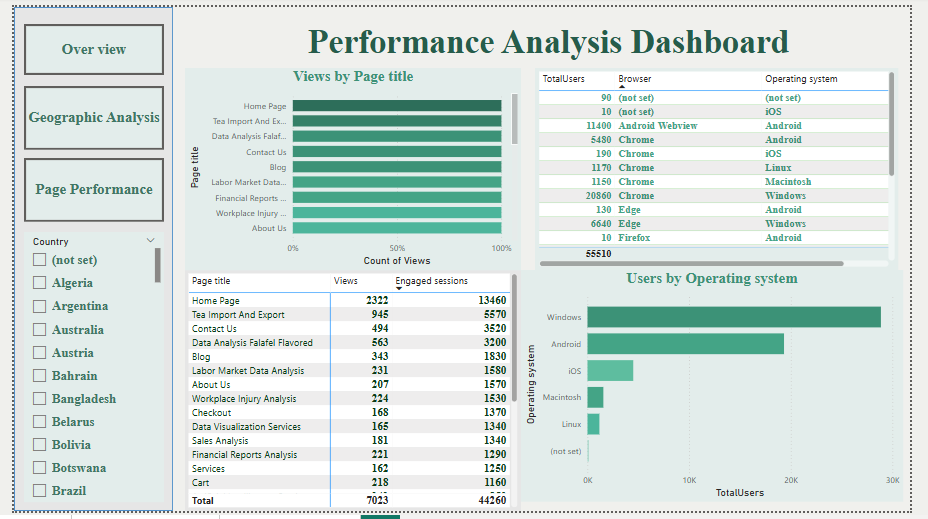

Layout of this report page (visuals, bound fields, positions):
{"tool":"powerbi","page":{"name":"Page performance","canvas":[1280,720],"ordinal":2},"visuals":[{"type":"shape","box":[0,0,227.1,720],"z":0},{"type":"actionButton","box":[14.3,24.3,200,72.9],"z":1000},{"type":"actionButton","box":[14.3,215.7,200,91.4],"z":2000},{"type":"actionButton","box":[14.3,112.9,200,91.4],"z":3000},{"type":"textbox","box":[244.3,0,998.6,87.1],"z":4000},{"type":"slicer","fields":{"Values":["Table1.Country"]},"box":[14.3,321.4,200,385.7],"z":7000},{"type":"pivotTable","fields":{"Rows":["Table1.Page title"],"Values":["Sum(Table1.Views)","Sum(Table1.Engaged sessions)"]},"box":[244.3,375.7,480,344.3],"z":7001},{"type":"hundredPercentStackedBarChart","title":" Views by Page title","fields":{"Y":["CountNonNull(Table1.Views)"],"Category":["Table1.Page title"]},"box":[244.3,87.1,480,288.6],"z":7002},{"type":"barChart","title":"Users by Operating system","fields":{"Y":["Table1.TotalUsers"],"Category":["Table1.Operating system"]},"box":[724.3,375.7,545.7,331.4],"z":7003},{"type":"tableEx","fields":{"Values":["Table1.TotalUsers","Table1.Browser","Table1.Operating system"]},"box":[744.3,87.1,518.6,288.6],"z":7004}]}

Visuals, with their boxes in screenshot pixels (x1, y1, x2, y2), scaled from the page's 1280x720 canvas onto the 928x519 screenshot:
shape: x1=0, y1=0, x2=165, y2=518
actionButton: x1=10, y1=18, x2=155, y2=70
actionButton: x1=10, y1=155, x2=155, y2=221
actionButton: x1=10, y1=81, x2=155, y2=147
textbox: x1=177, y1=0, x2=901, y2=63
slicer - Table1.Country: x1=10, y1=232, x2=155, y2=510
pivotTable - Table1.Page title x Sum(Table1.Views): x1=177, y1=271, x2=525, y2=518
" Views by Page title" hundredPercentStackedBarChart: x1=177, y1=63, x2=525, y2=271
"Users by Operating system" barChart: x1=525, y1=271, x2=921, y2=510
tableEx - Table1.TotalUsers x Table1.Browser: x1=540, y1=63, x2=916, y2=271
